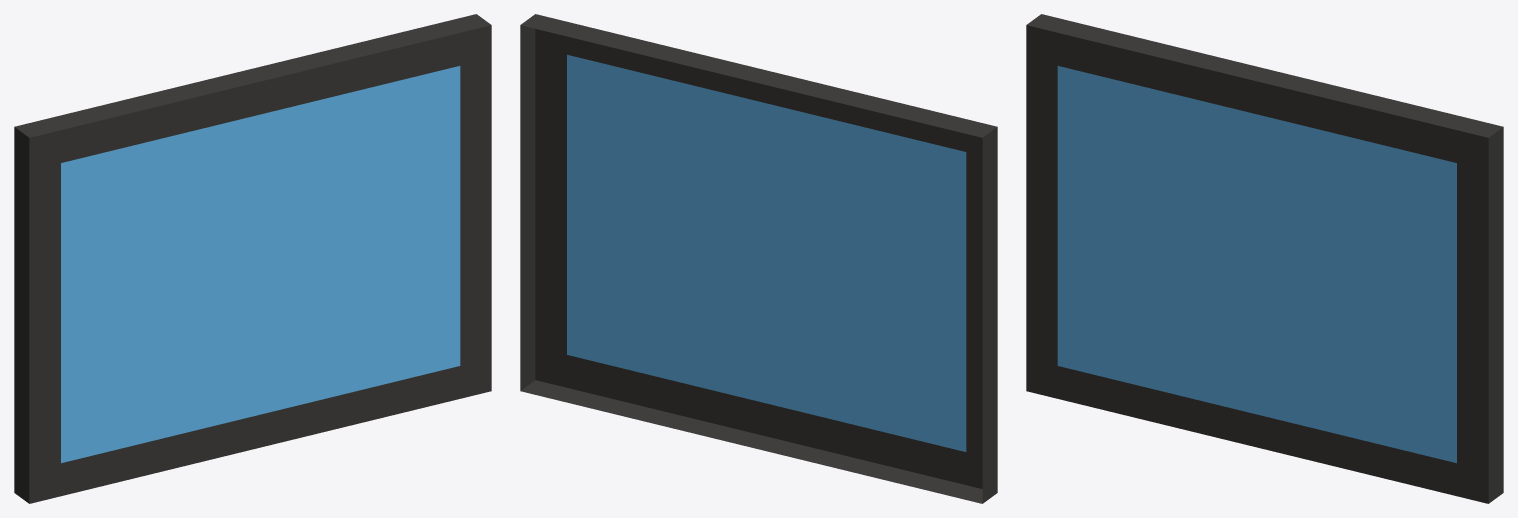
The model's file is Paint_3.fbx.
The picture shows the model from 3 angles, left to right: view 1: azimuth 30°, elevation 25°; view 2: azimuth 150°, elevation 25°; view 3: azimuth 330°, elevation 25°; orthographic projection.
Parts seen in each view (by area): view 1: polySurface1560; view 2: polySurface1560; view 3: polySurface1560.
Boxes of the visible parts, box(x1,y1,x2,y2) form: polySurface1560: box(14, 14, 491, 503); polySurface1560: box(520, 14, 997, 503); polySurface1560: box(1026, 14, 1503, 503).
Bounding box in the file's own units: 1.41 × 1.07 × 0.08.
Materials: 1 (1 with a texture image).
